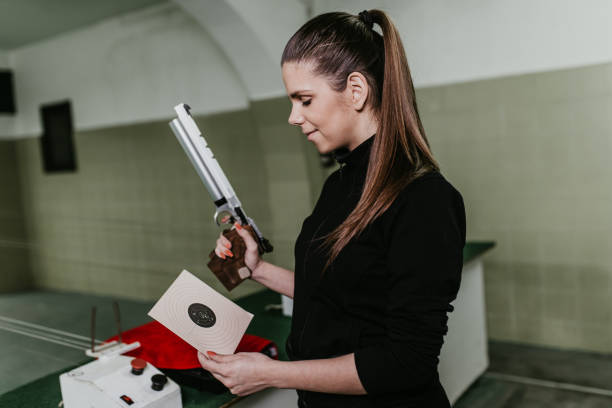gun: (166, 101, 274, 256)
